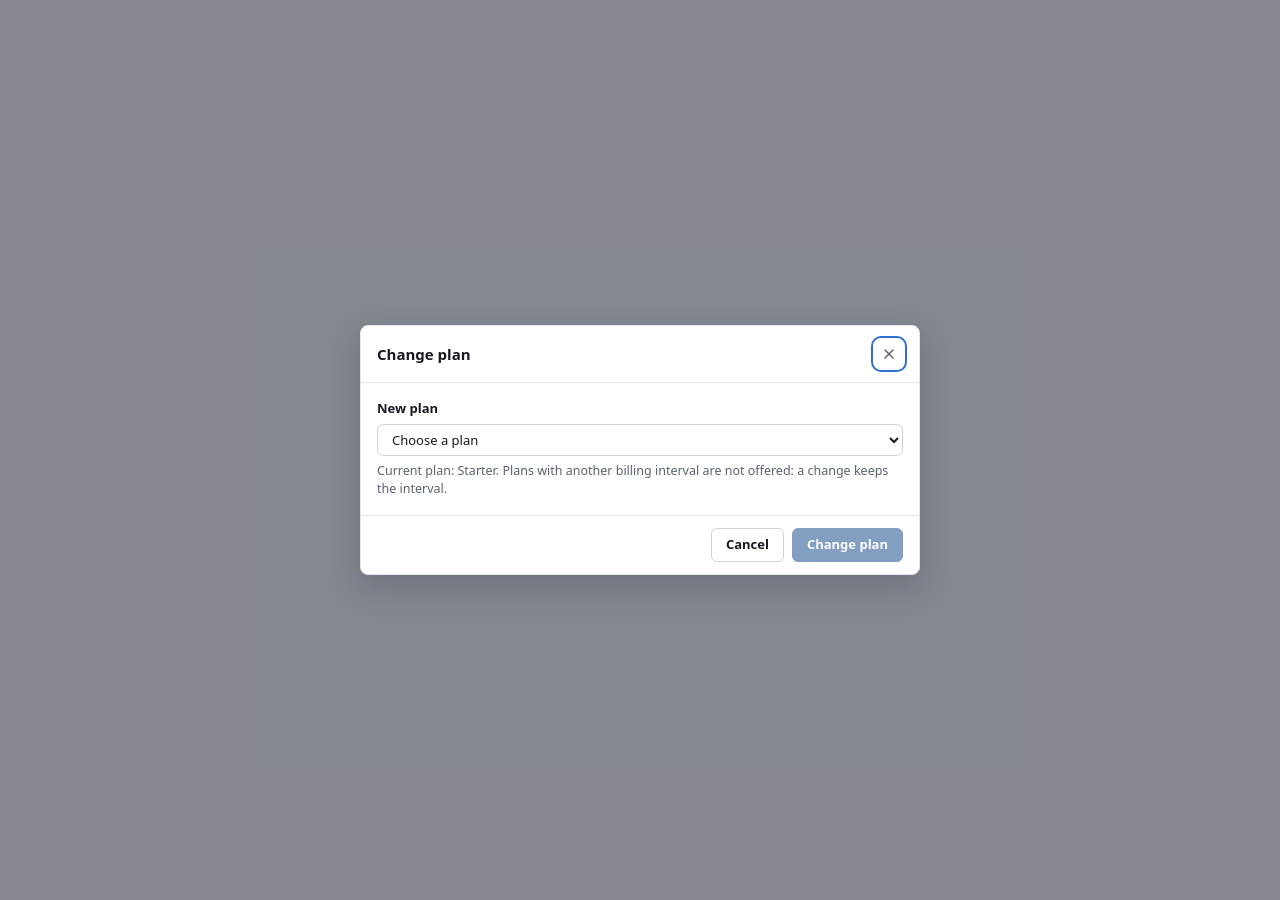
Test case: ChangePlanDialog › switches a trial without moving money
The width and height of the screenshot is (1280, 900).
Select "Business · €99.00 per month" in the dropdown at (640, 440), box [377,424,903,456]
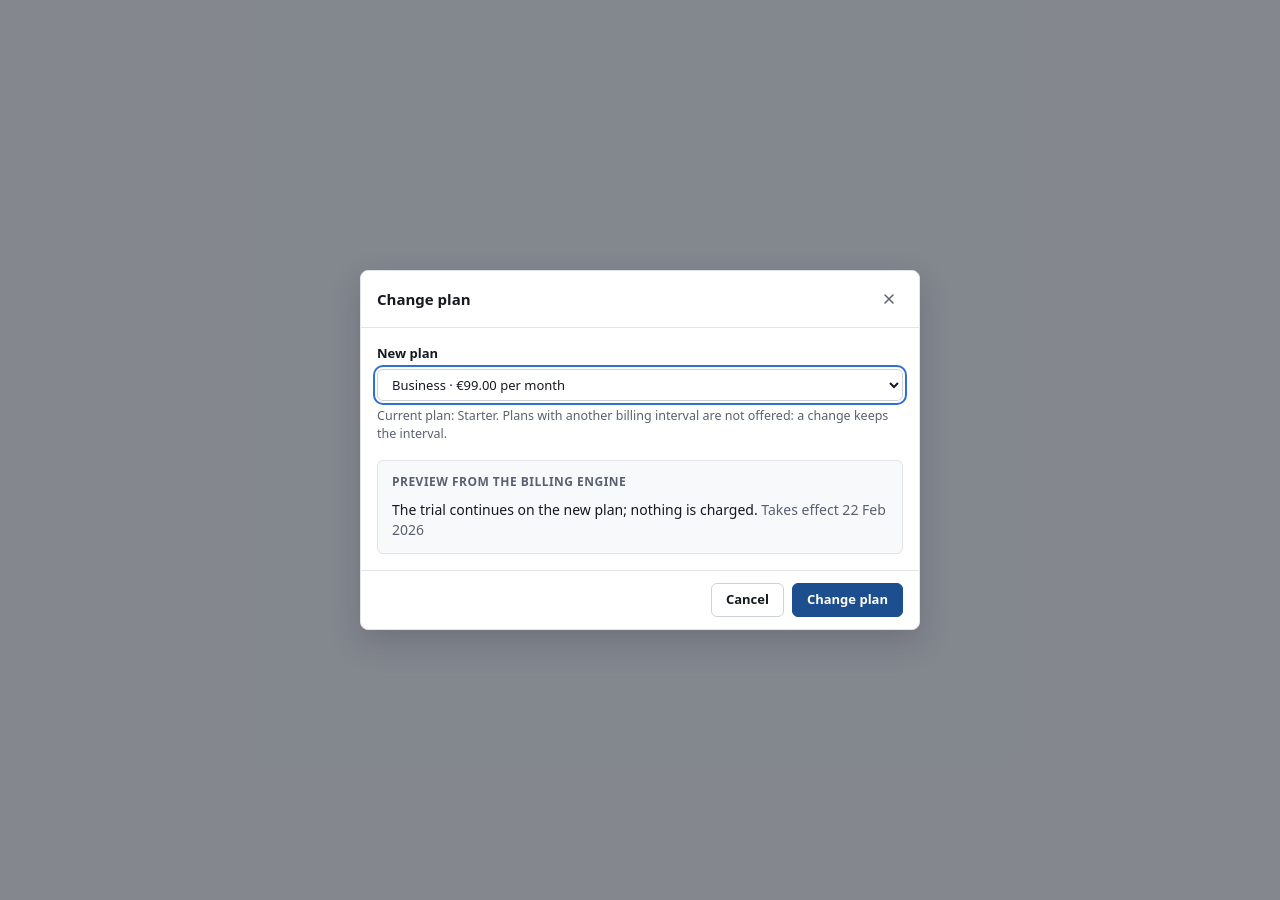
Expected: the text "The trial continues on the new plan; nothing is charged." is shown, [392,500,758,519]
Expected: the button "Change plan" is enabled, [792,582,903,616]
